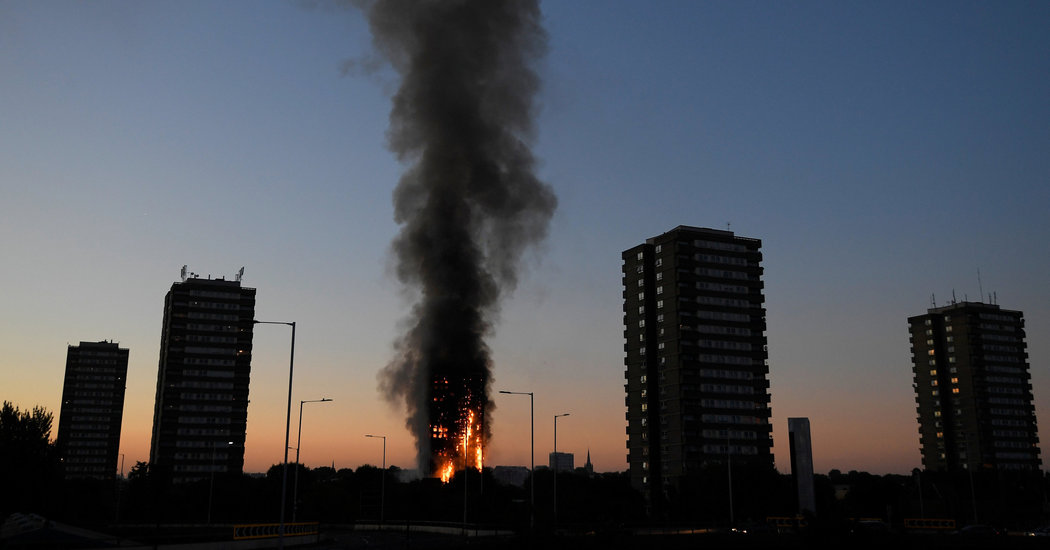fire: (433, 417, 489, 484)
smoke: (375, 1, 559, 374)
